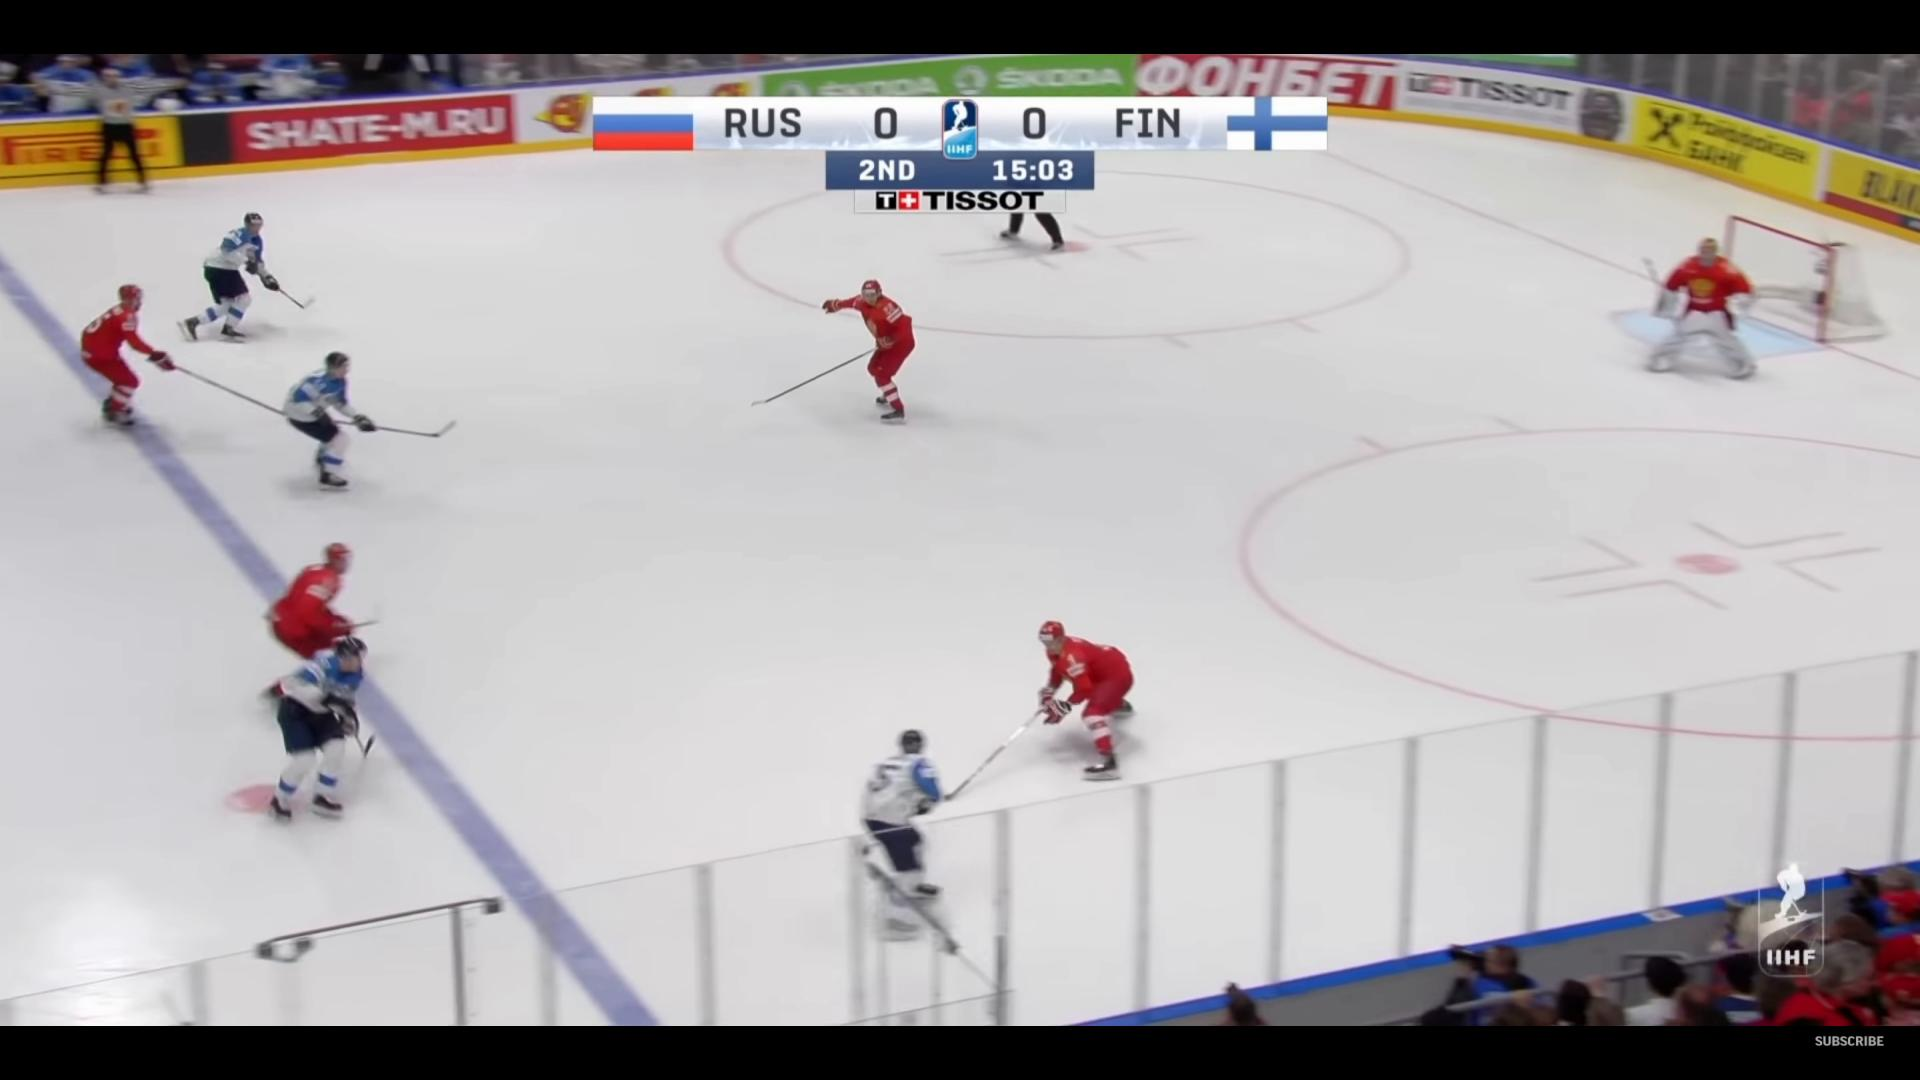puck: (861, 845, 868, 855)
